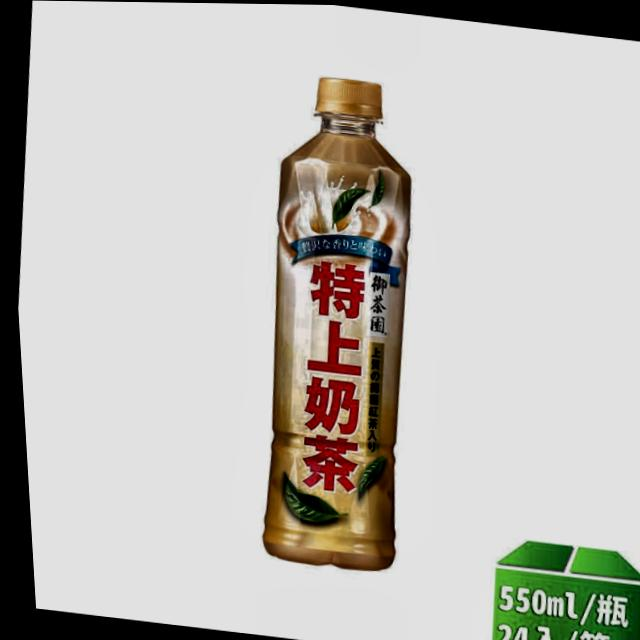Bottles: (175, 40, 479, 607)
